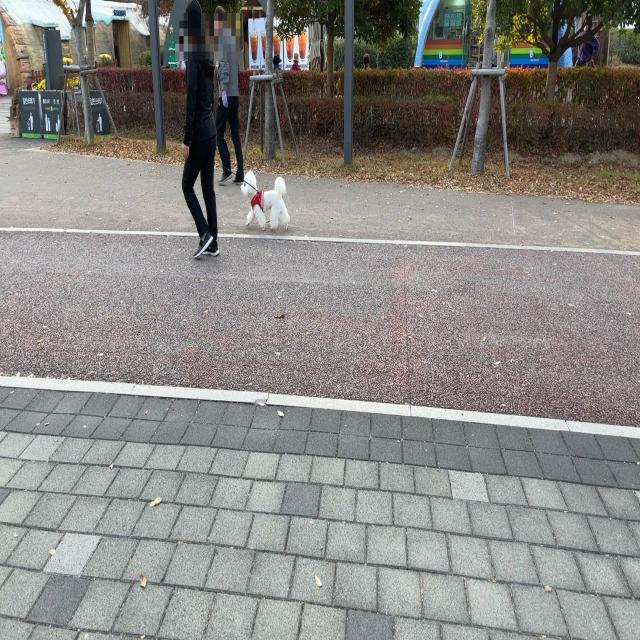Leashed_Dog: (186, 114, 291, 233)
